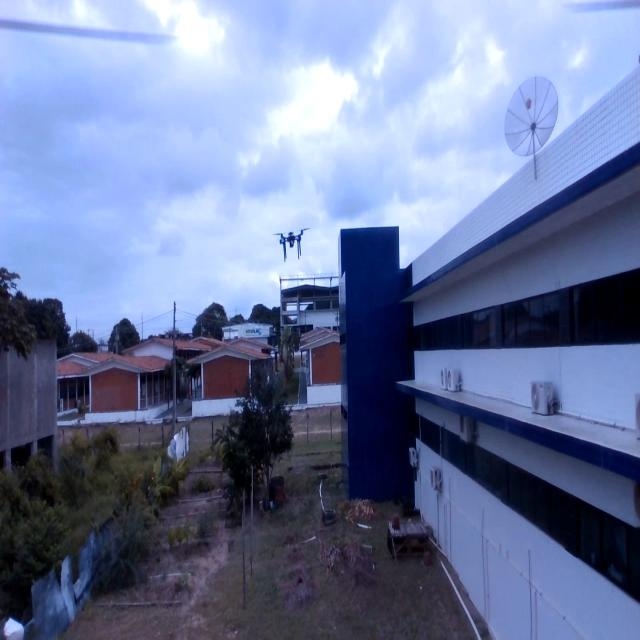-uav-: (274, 222, 312, 261)
